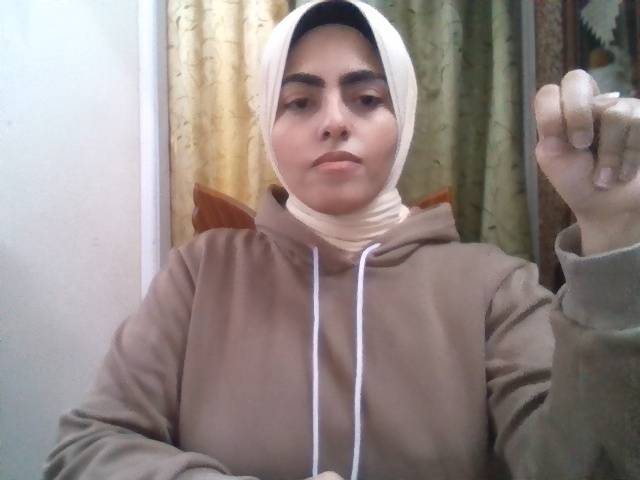N: (533, 69, 640, 225)
